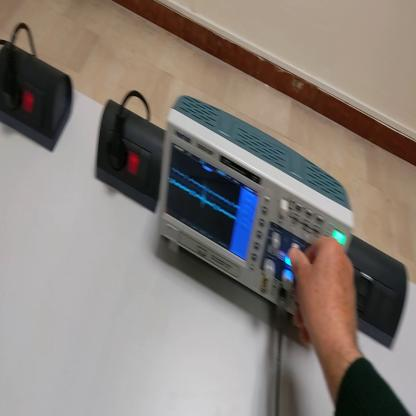hand: (290, 236, 361, 354)
oscilloscope: (152, 92, 349, 313)
socket: (94, 98, 169, 216), (1, 42, 74, 155)
